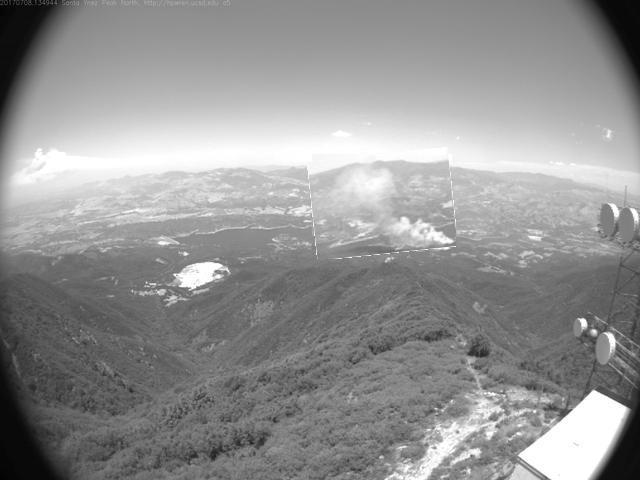smoke: (311, 152, 456, 258)
